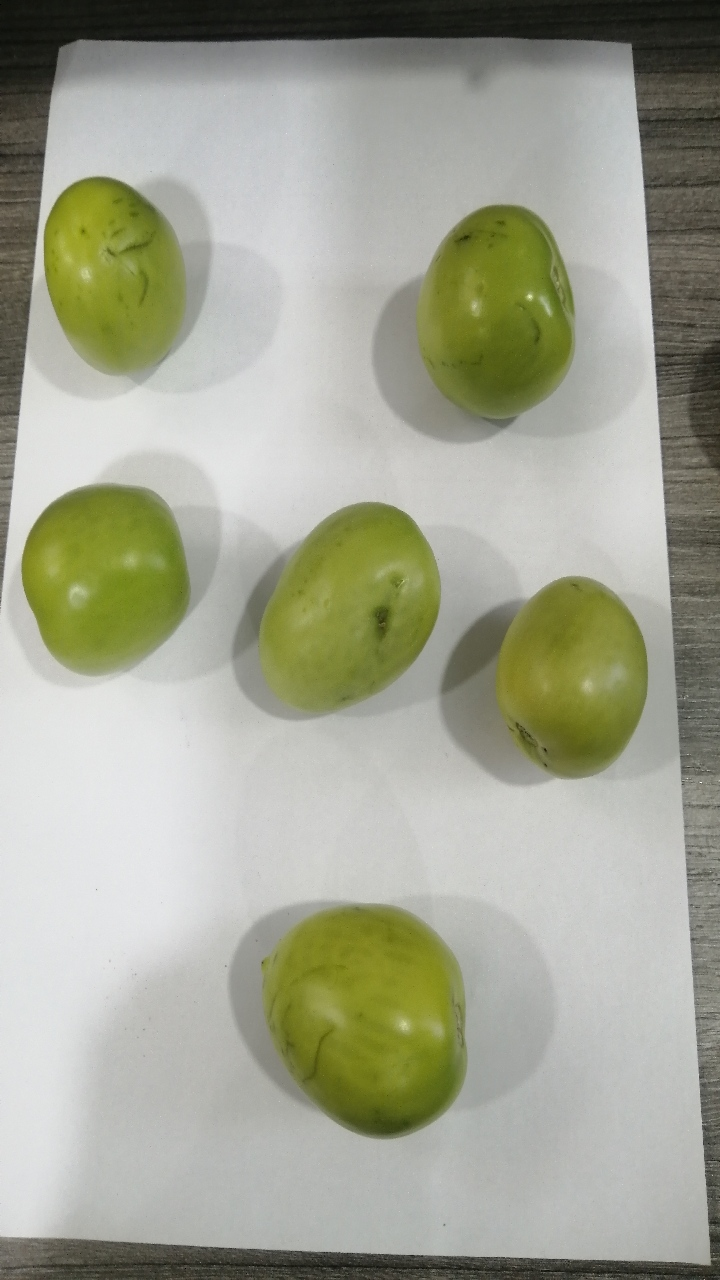tomateVerde: (224, 879, 492, 1159), (397, 179, 601, 439), (28, 155, 238, 397), (244, 479, 446, 728), (9, 469, 206, 683), (486, 555, 644, 779)
